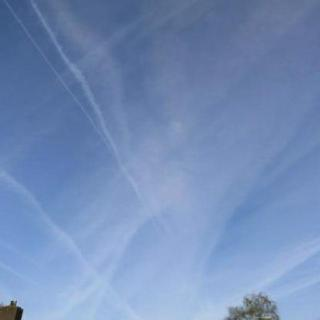Contrails: (0, 0, 320, 308)
